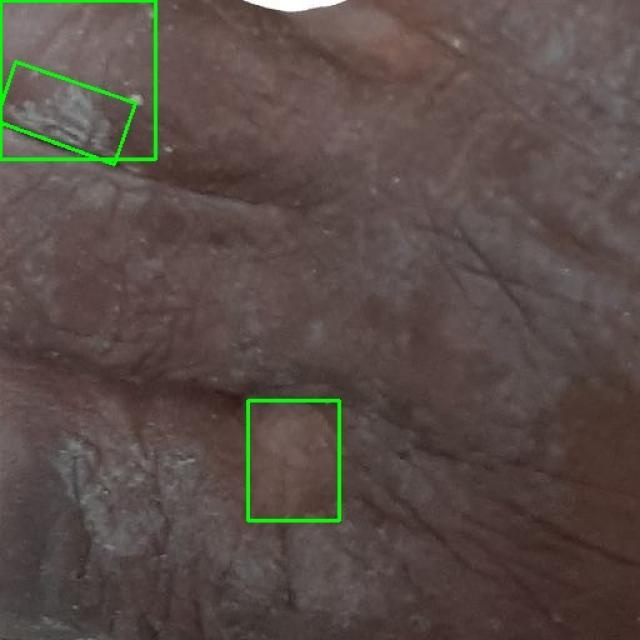Eczema: (0, 0, 155, 159), (0, 59, 137, 164), (248, 400, 339, 520)
